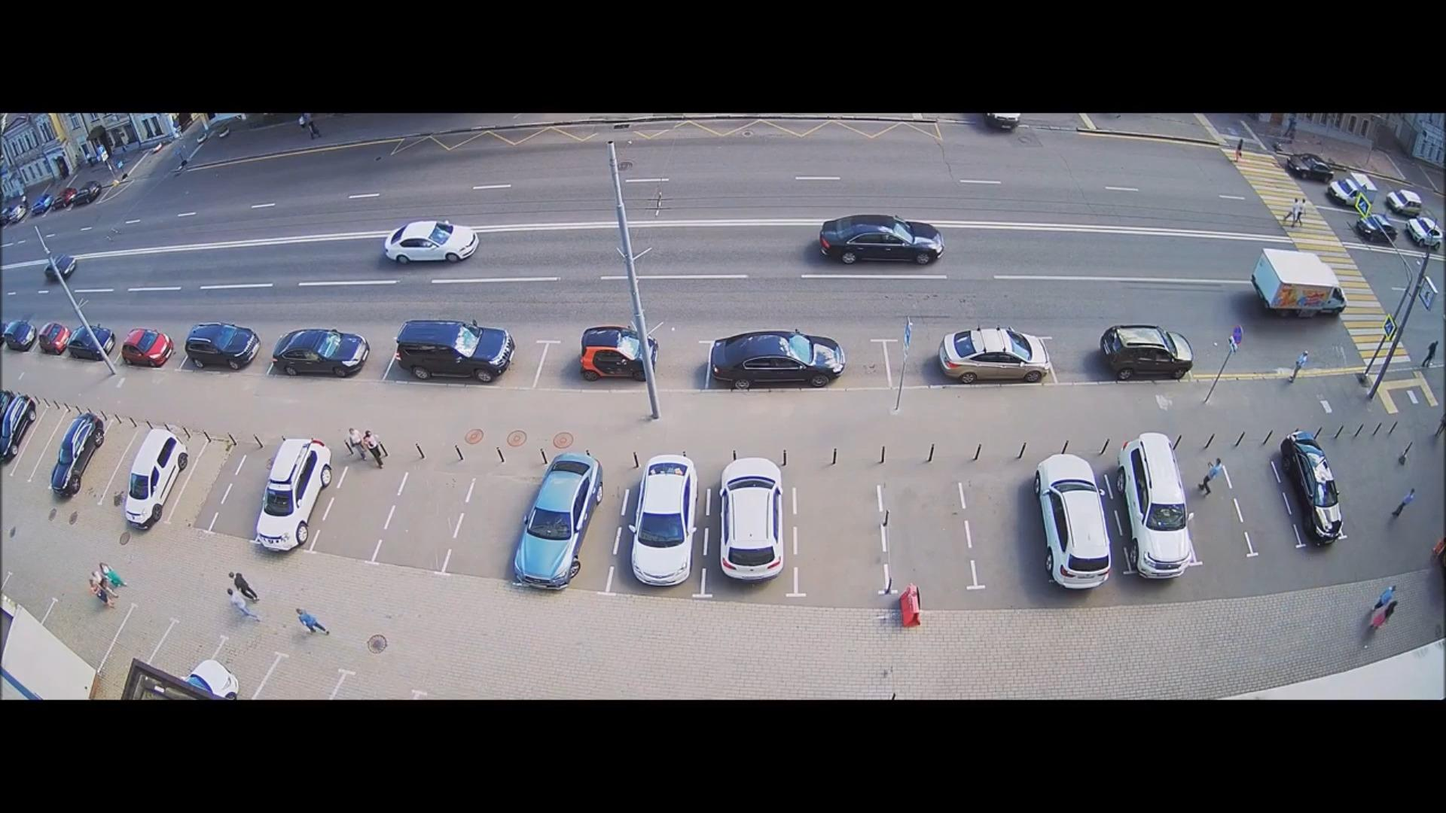car: (818, 214, 940, 267), (381, 219, 477, 265), (1353, 213, 1400, 244)
occupied: (512, 452, 603, 588), (1117, 434, 1197, 576), (1032, 454, 1110, 589), (629, 455, 698, 585), (254, 438, 333, 550), (715, 456, 783, 583), (706, 329, 840, 391), (393, 319, 514, 383), (1279, 431, 1346, 543), (936, 325, 1051, 385), (123, 427, 191, 528), (1100, 324, 1198, 380), (271, 327, 370, 378), (49, 414, 107, 498), (579, 324, 662, 382), (183, 322, 260, 371), (0, 392, 37, 464), (119, 327, 173, 368), (185, 659, 239, 700), (67, 324, 119, 362), (1327, 173, 1379, 210), (1284, 152, 1337, 181), (1404, 215, 1443, 249), (37, 322, 73, 356), (1, 319, 38, 352), (1385, 189, 1424, 218), (44, 253, 79, 282), (68, 182, 104, 208), (1, 202, 29, 227), (984, 112, 1020, 131), (30, 194, 55, 216)
